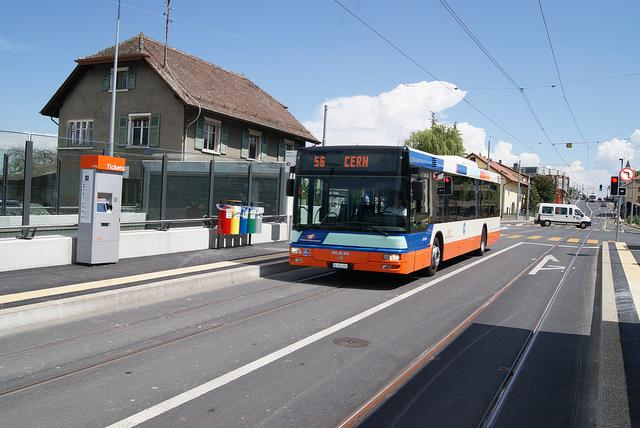bus: (289, 146, 502, 278)
van: (533, 202, 593, 229)
